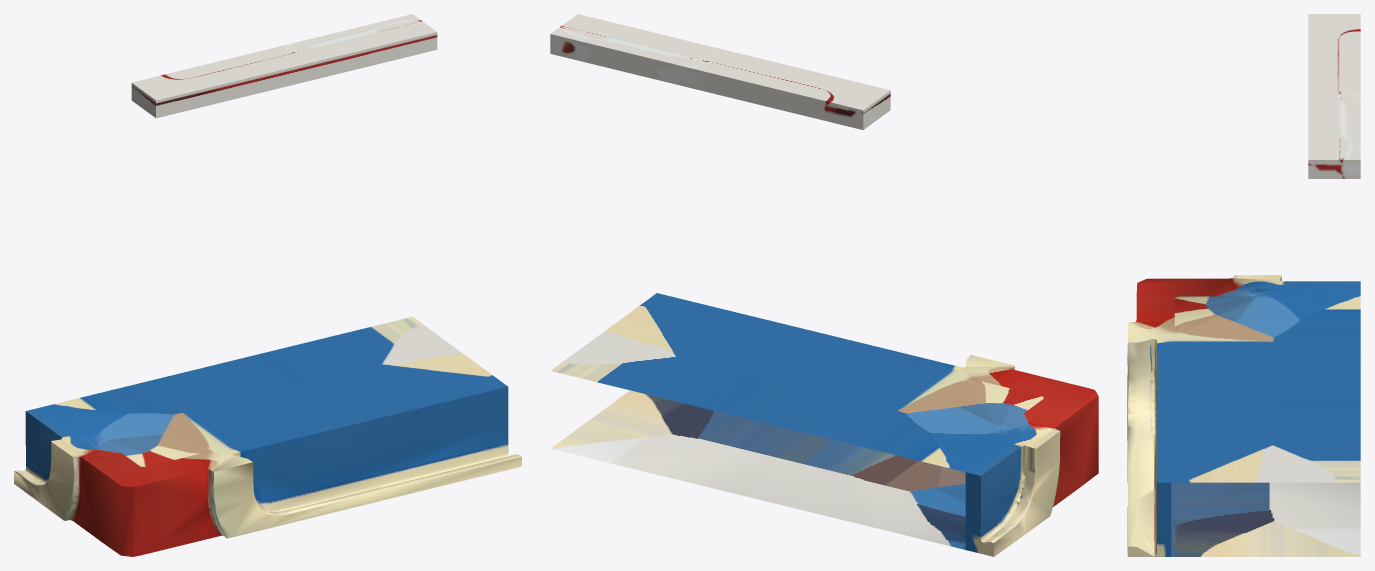
Rendered from 9-roof-front-left.fbx.
The picture shows the model from 3 angles, left to right: view 1: azimuth 30°, elevation 25°; view 2: azimuth 150°, elevation 25°; view 3: azimuth 270°, elevation 25°; orthographic projection. The views are drawn at different scales.
Visible parts, largest first — view 1: roof-front-left; view 2: roof-front-left; view 3: roof-front-left.
Part boxes in pixels (x1,y1,x2,y2): roof-front-left: [14, 14, 521, 556]; roof-front-left: [550, 14, 1098, 556]; roof-front-left: [1127, 14, 1360, 556].
Bounding box in the file's own units: 4687 × 4180 × 2227.
1 material, 1 textured.
